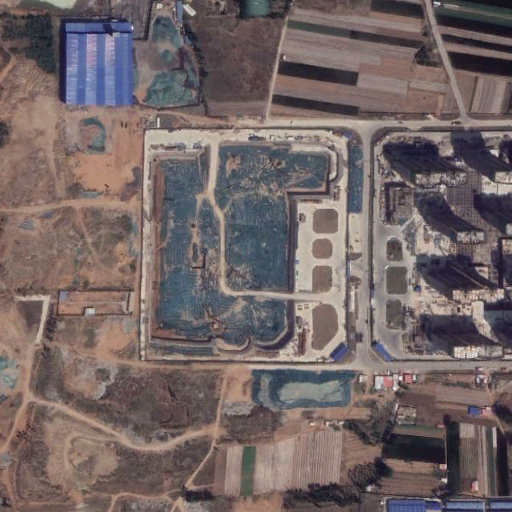cw: (144, 129, 365, 362), (141, 13, 198, 107), (256, 368, 355, 406)
